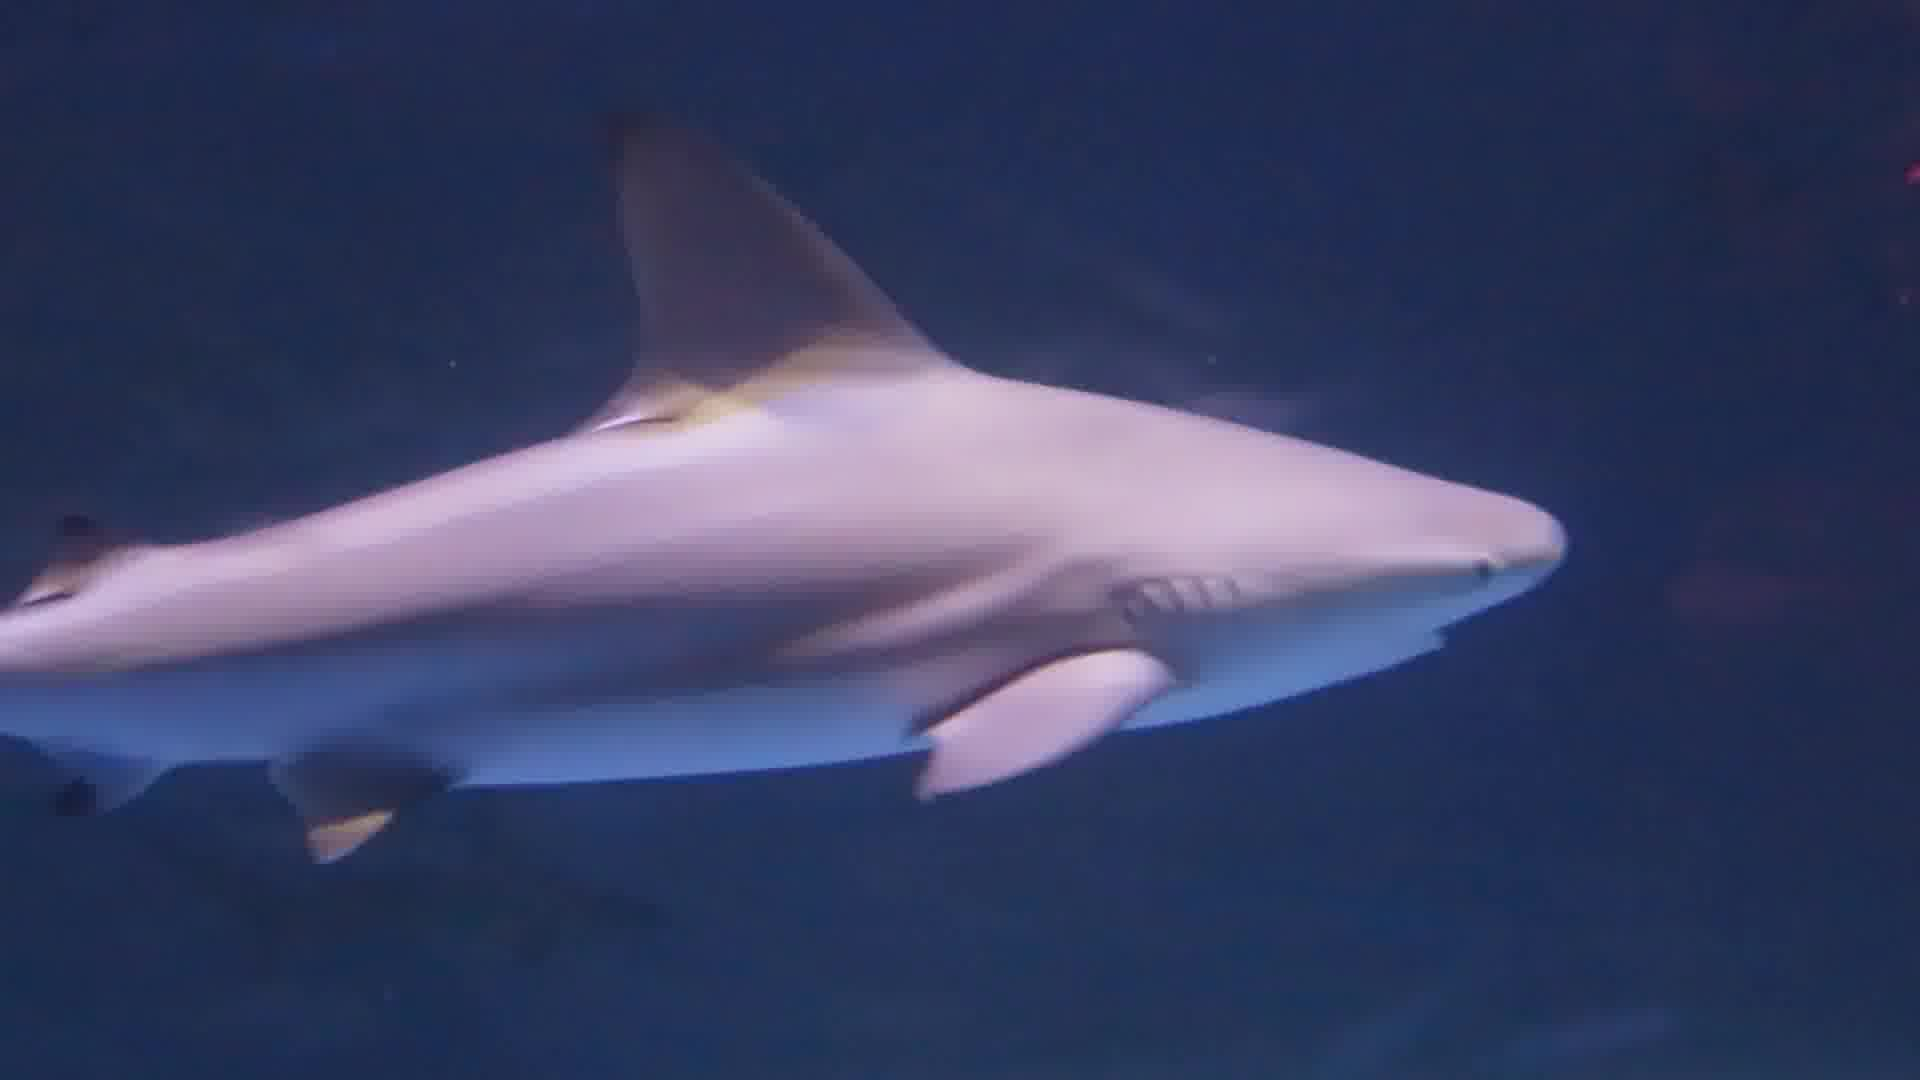Carcharhinus leucas: (26, 9, 1568, 982)
